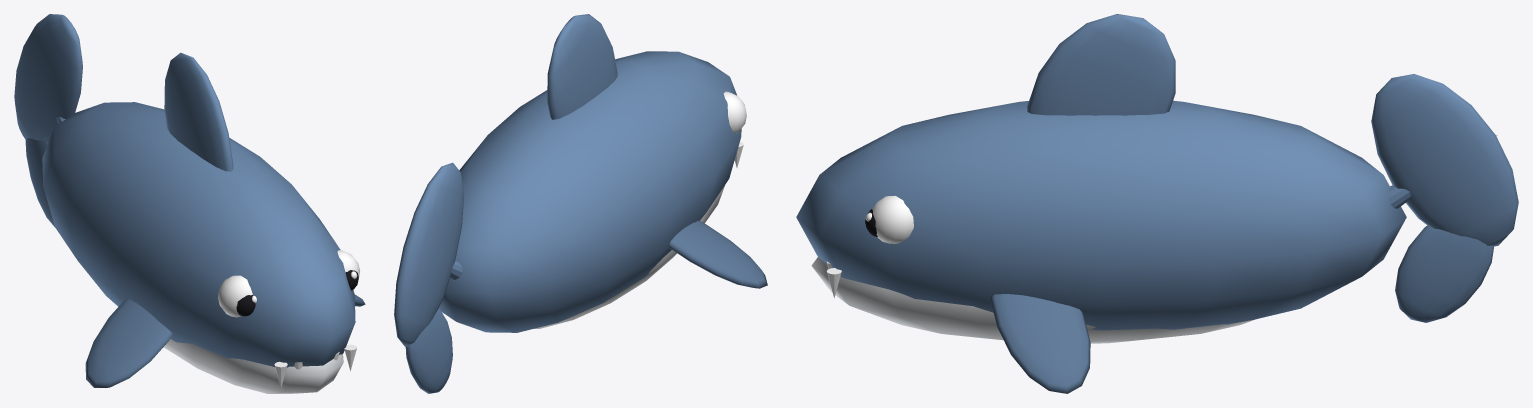
3 views of the same model, side by side, from view 1: azimuth 30°, elevation 25°; view 2: azimuth 150°, elevation 25°; view 3: azimuth 270°, elevation 25° (orthographic). The views are drawn at different scales.
Parts seen in each view (by area): view 1: Shark; view 2: Shark; view 3: Shark.
Part boxes in pixels (x1,y1,x2,y2): Shark: [14, 14, 365, 393]; Shark: [394, 14, 767, 393]; Shark: [796, 14, 1518, 393].
Size of the model in its own units: 2.48 by 2.32 by 4.73.
1 material, 1 textured.
